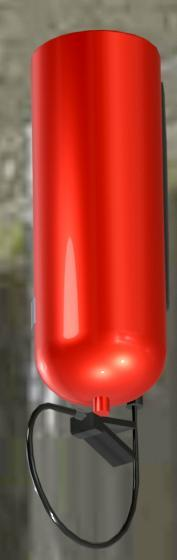Fire Extinguisher: (13, 16, 177, 560)
